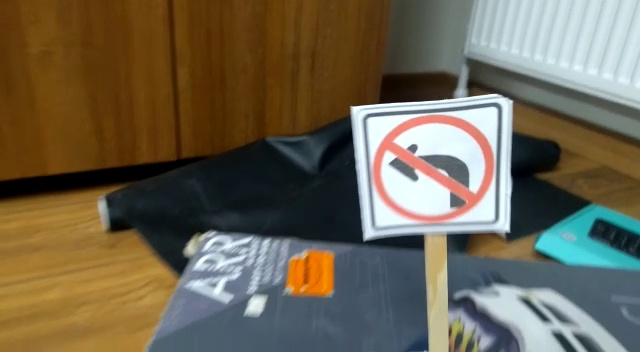sola_donulmez: (359, 103, 500, 242)
